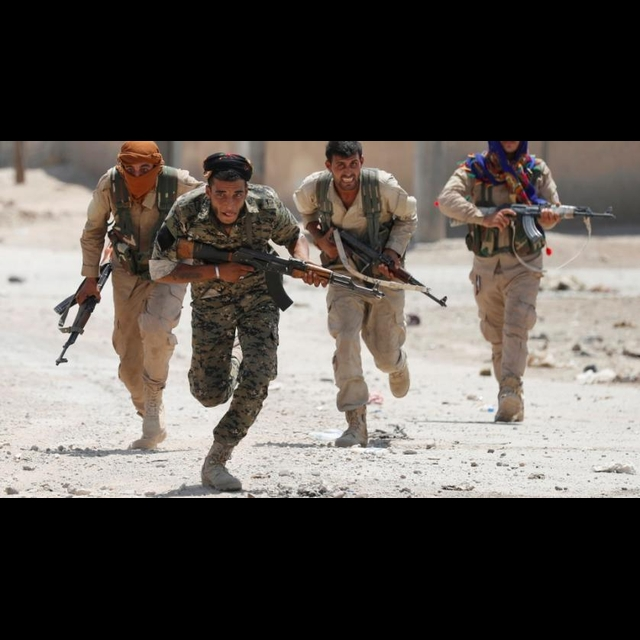AK47: (226, 246, 385, 310), (336, 227, 447, 307), (55, 261, 113, 367), (508, 203, 617, 248)
